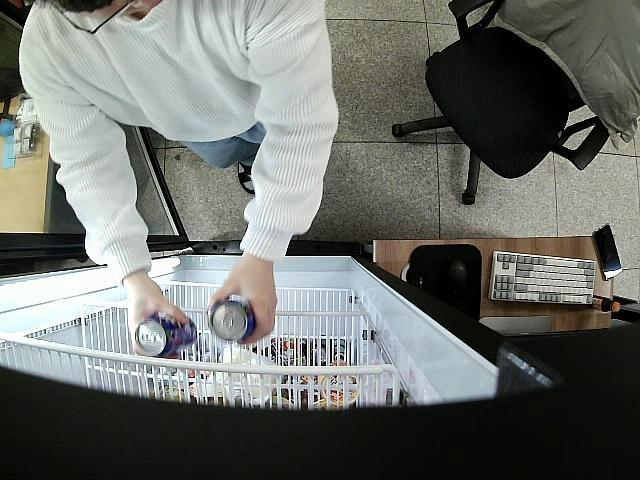14_welchsGrape: (135, 309, 196, 358), (206, 298, 256, 343)
